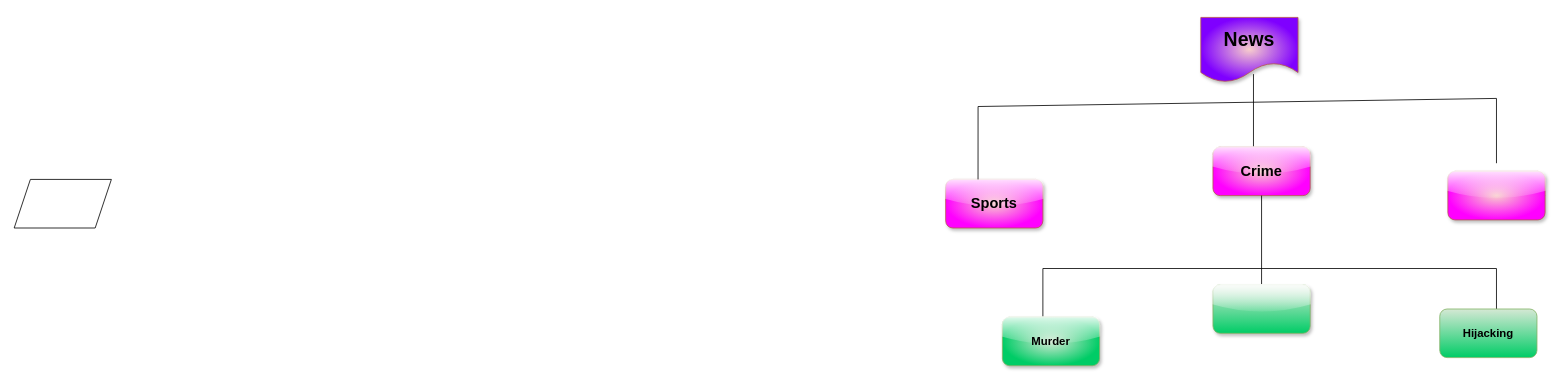
The diagram is 1564 pixels wide and 386 high, and some of its shapes have lost their labels. The centre of each missing label's shape, as x and y in pixels:
Front Page: the point at 1497,196
Stealing: the point at 1262,310
